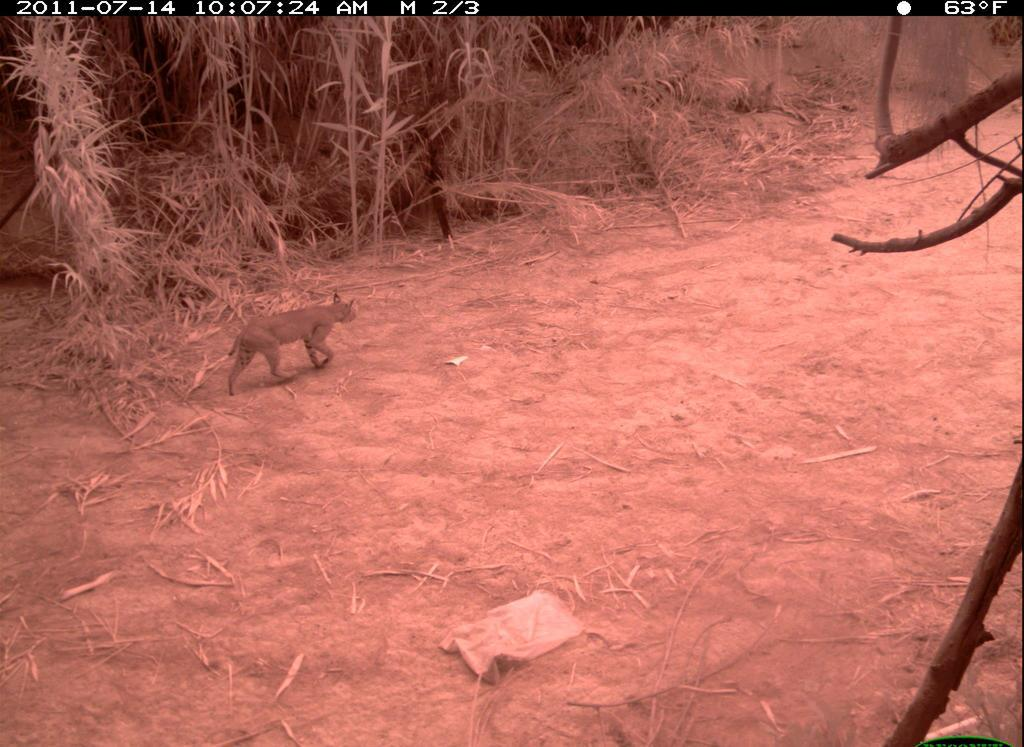bobcat: (221, 289, 363, 401)
